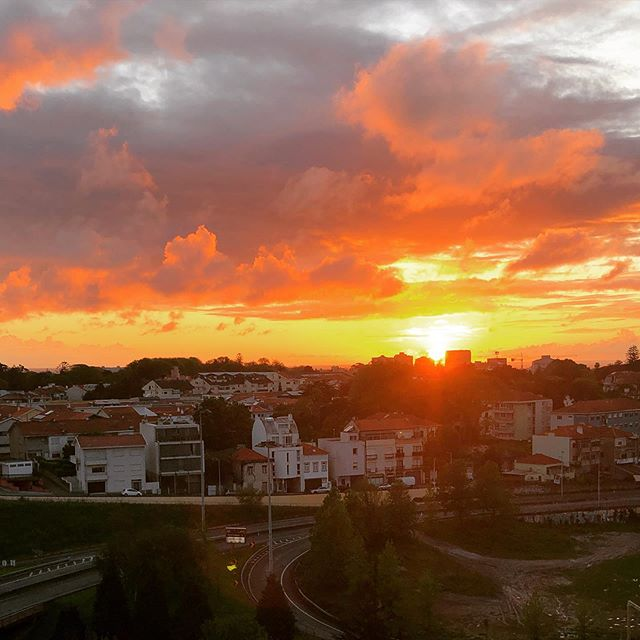building: (72, 420, 212, 496), (231, 414, 331, 497), (340, 412, 435, 485), (493, 393, 547, 482)
sky: (13, 1, 635, 347)
sun: (411, 330, 461, 370)
